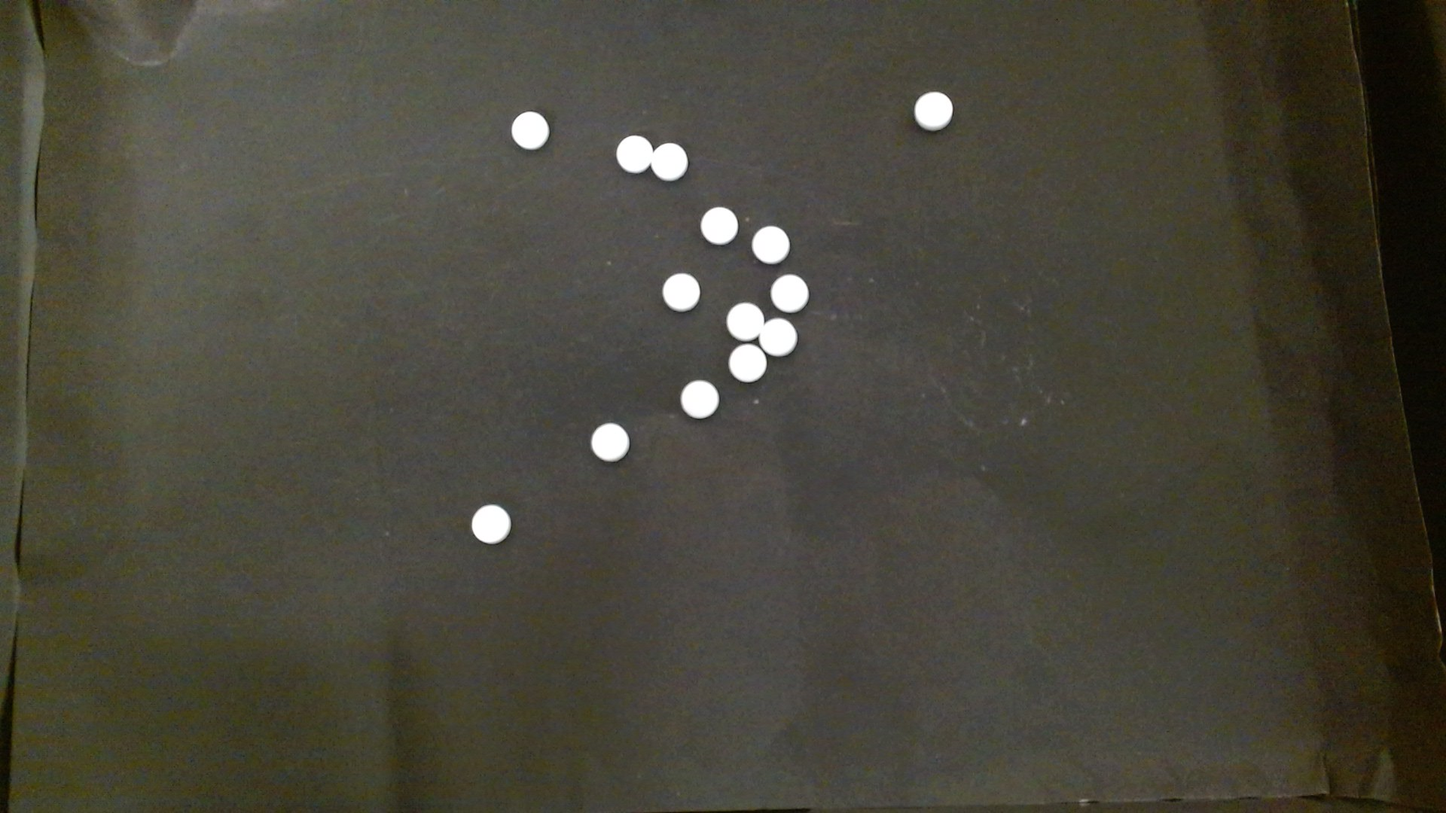Circle: (510, 110, 550, 150), (661, 272, 701, 312), (590, 422, 630, 462), (471, 504, 511, 544), (770, 273, 810, 312), (615, 133, 654, 173), (679, 380, 718, 419), (913, 91, 952, 130), (752, 225, 790, 264), (651, 142, 688, 181), (700, 207, 737, 245), (729, 344, 766, 382), (726, 302, 763, 340), (759, 318, 796, 355)
